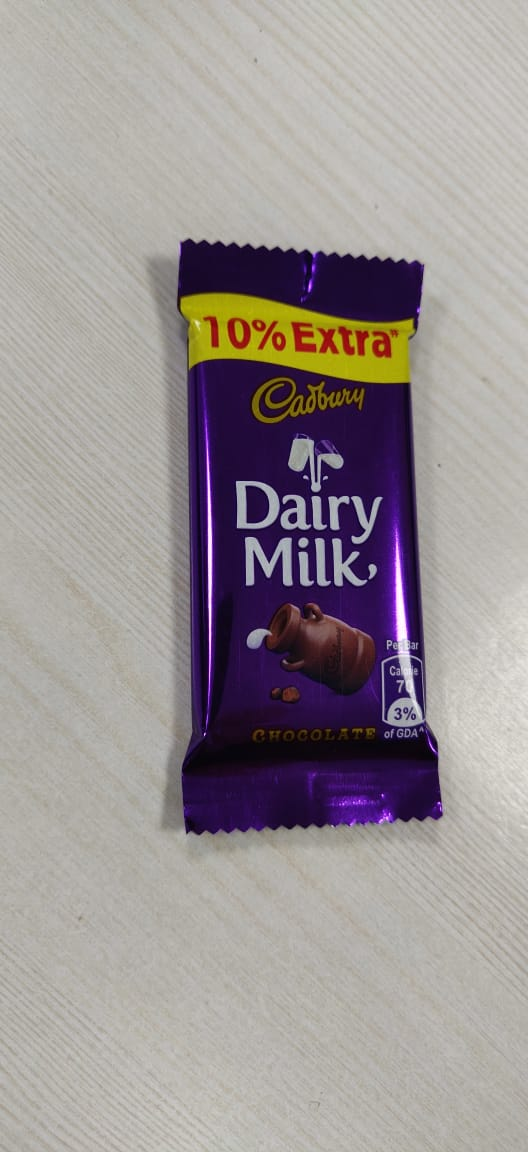dairy milk: (171, 232, 450, 856)
